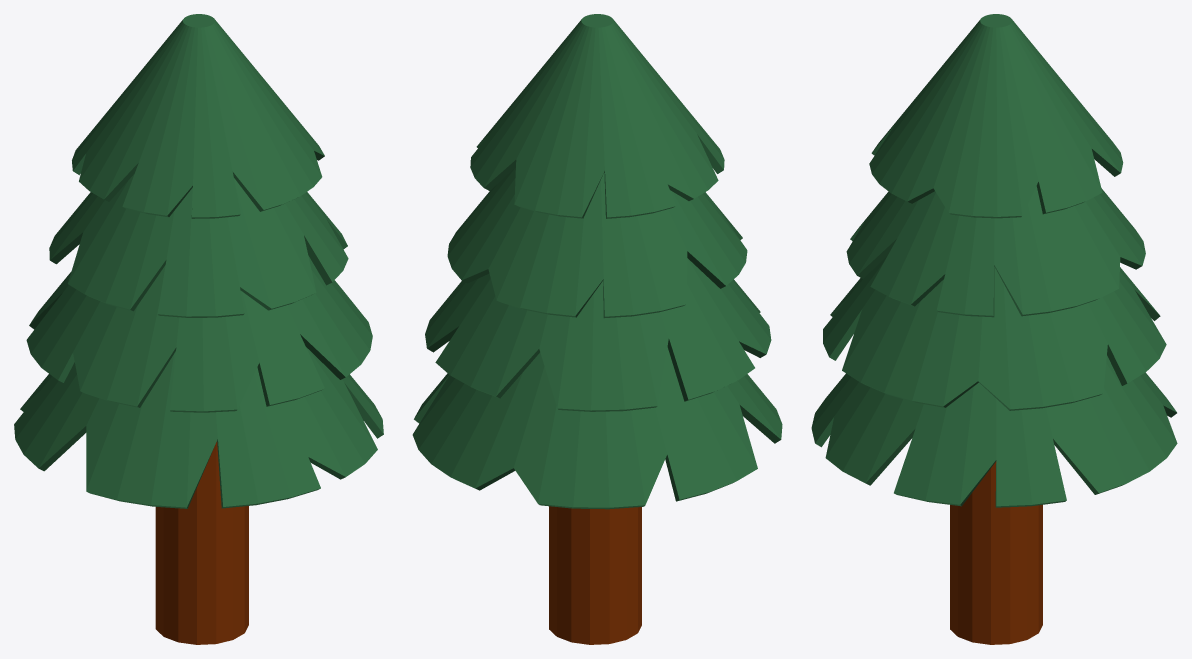
File: Dark Tree 3.0.fbx
3 renders of one model, left to right at view 1: azimuth 30°, elevation 25°; view 2: azimuth 150°, elevation 25°; view 3: azimuth 270°, elevation 25°, orthographic.
Visible parts, largest first — view 1: Cylinder; view 2: Cylinder; view 3: Cylinder.
Part boxes in pixels (box(x1,y1,x2,y2)): Cylinder: box(14, 14, 383, 644); Cylinder: box(412, 14, 782, 644); Cylinder: box(811, 14, 1177, 644).
Size of the model in its own units: 336 by 605 by 333.
